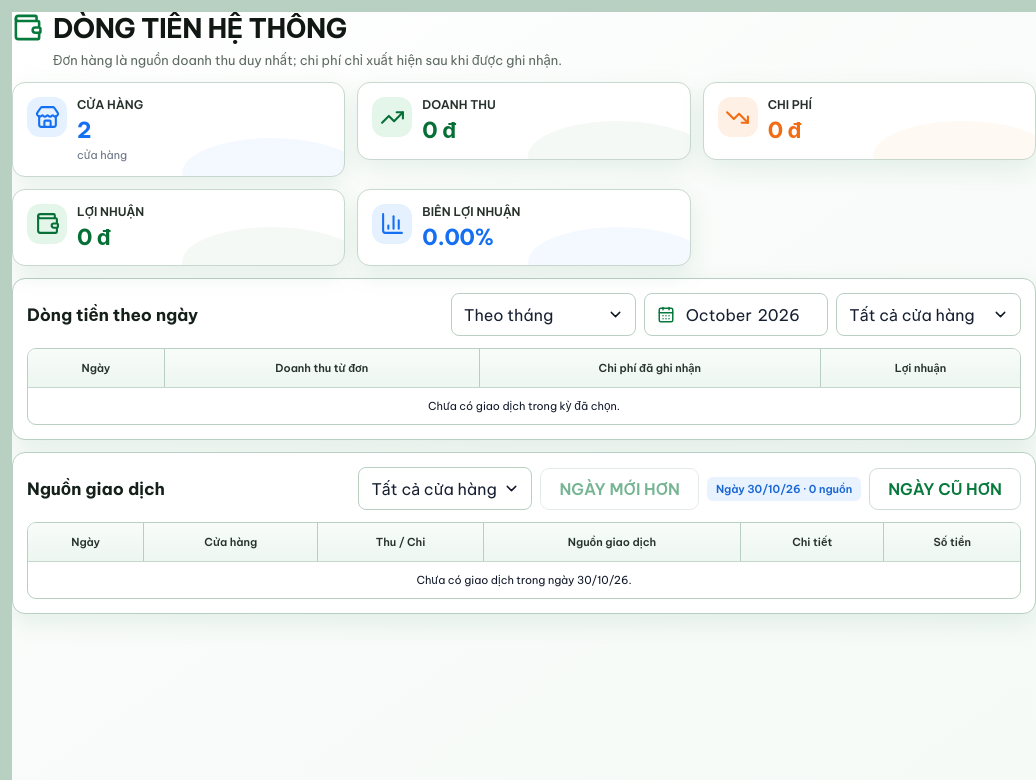
Test case: AdminCashflowV2 filters › filters the daily cash-flow table by an exact day and store
Select "Theo ngày" in the dropdown named "Chế độ lọc dòng tiền theo ngày". click: (532, 314)
box: [464,294,601,335]
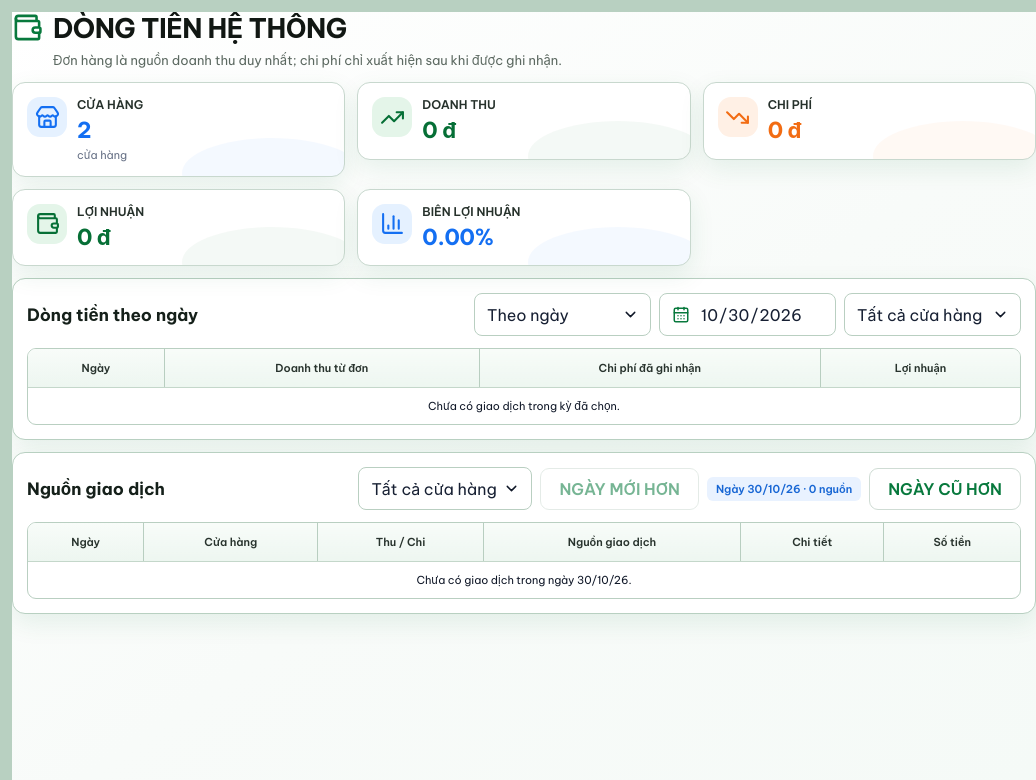
Type "2026-08-22" into the date field named "Chọn ngày dòng tiền theo ngày". click: (761, 314)
box: [699,294,823,335]
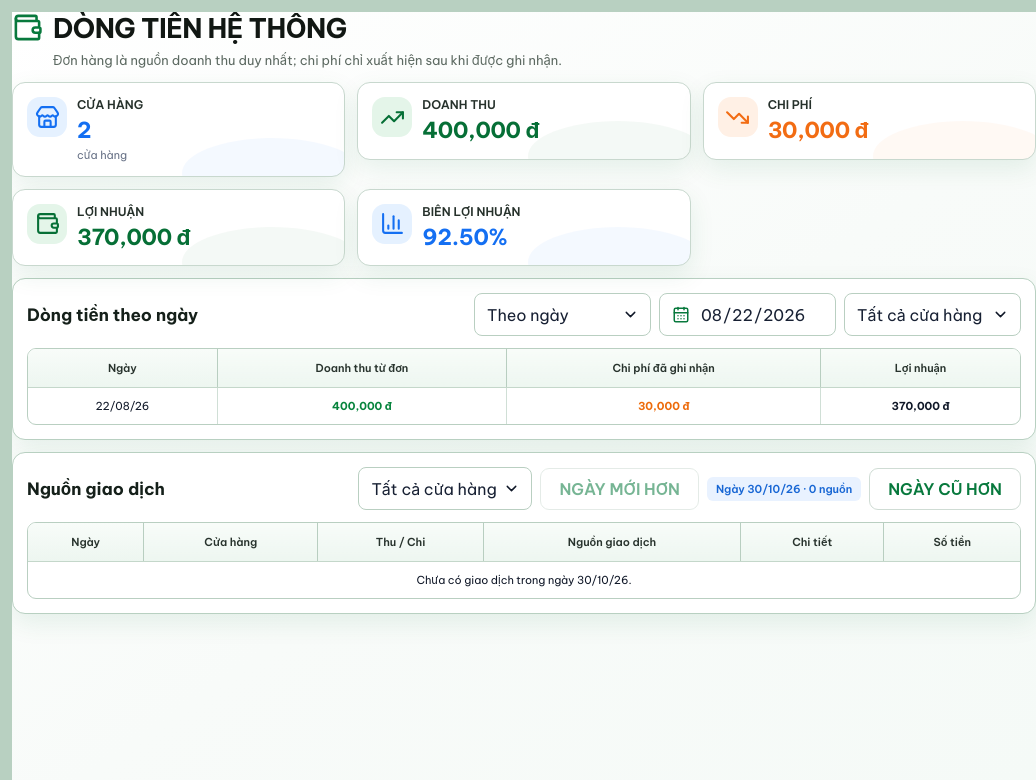
Select "Dosii KVC" in the dropdown named "Chọn cửa hàng dòng tiền theo ngày". click: (922, 314)
box: [857,294,986,335]
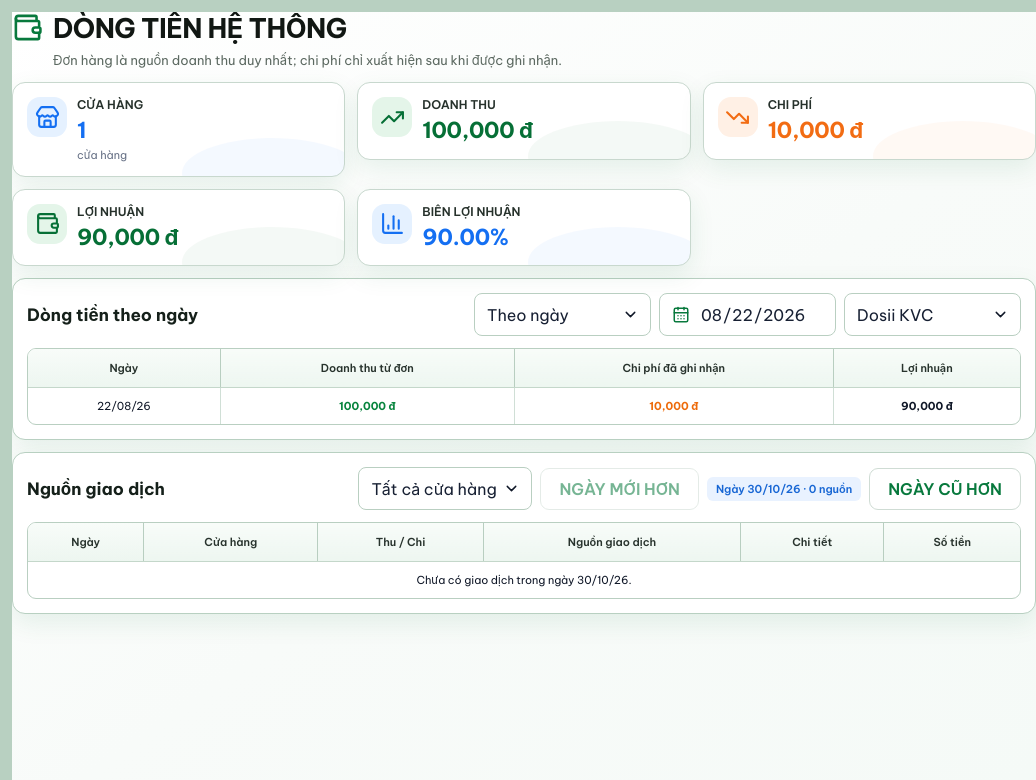
Expected: the text "22/08/26" is shown, [28,388,220,424]
Expected: the text "100,000 đ" in the row of "22/08/26" is shown, [339,399,396,413]
Expected: the text "10,000 đ" in the row of "22/08/26" is shown, [649,399,698,413]
